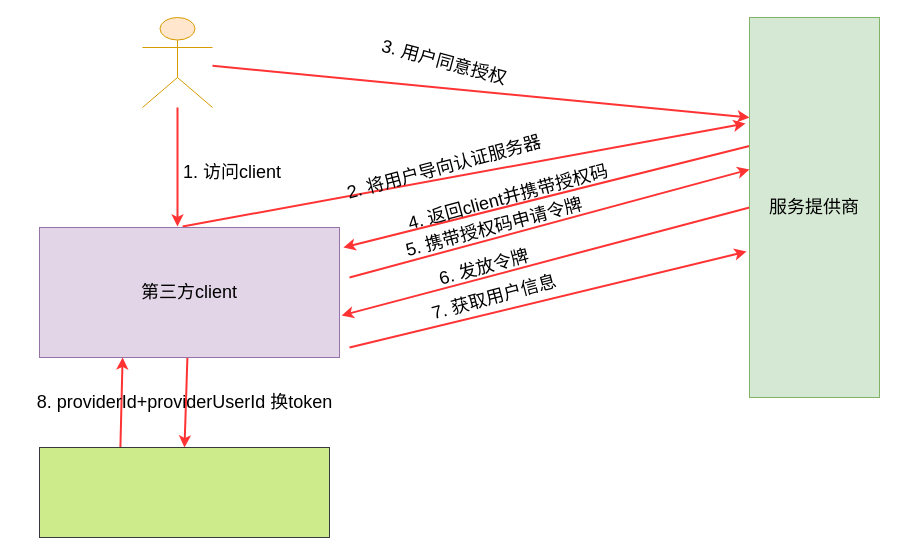
This 897x555 diagram has some shape labels left out. The shapes that lost their labels are listed below. From the top down, each one's centre as x and y in pixels, then its label:
(x=177, y=62): 资源所有者
(x=184, y=492): APP
